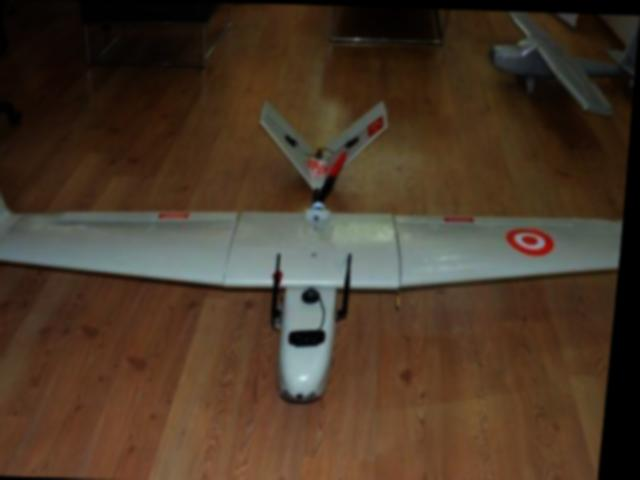iha: (0, 79, 635, 410)
